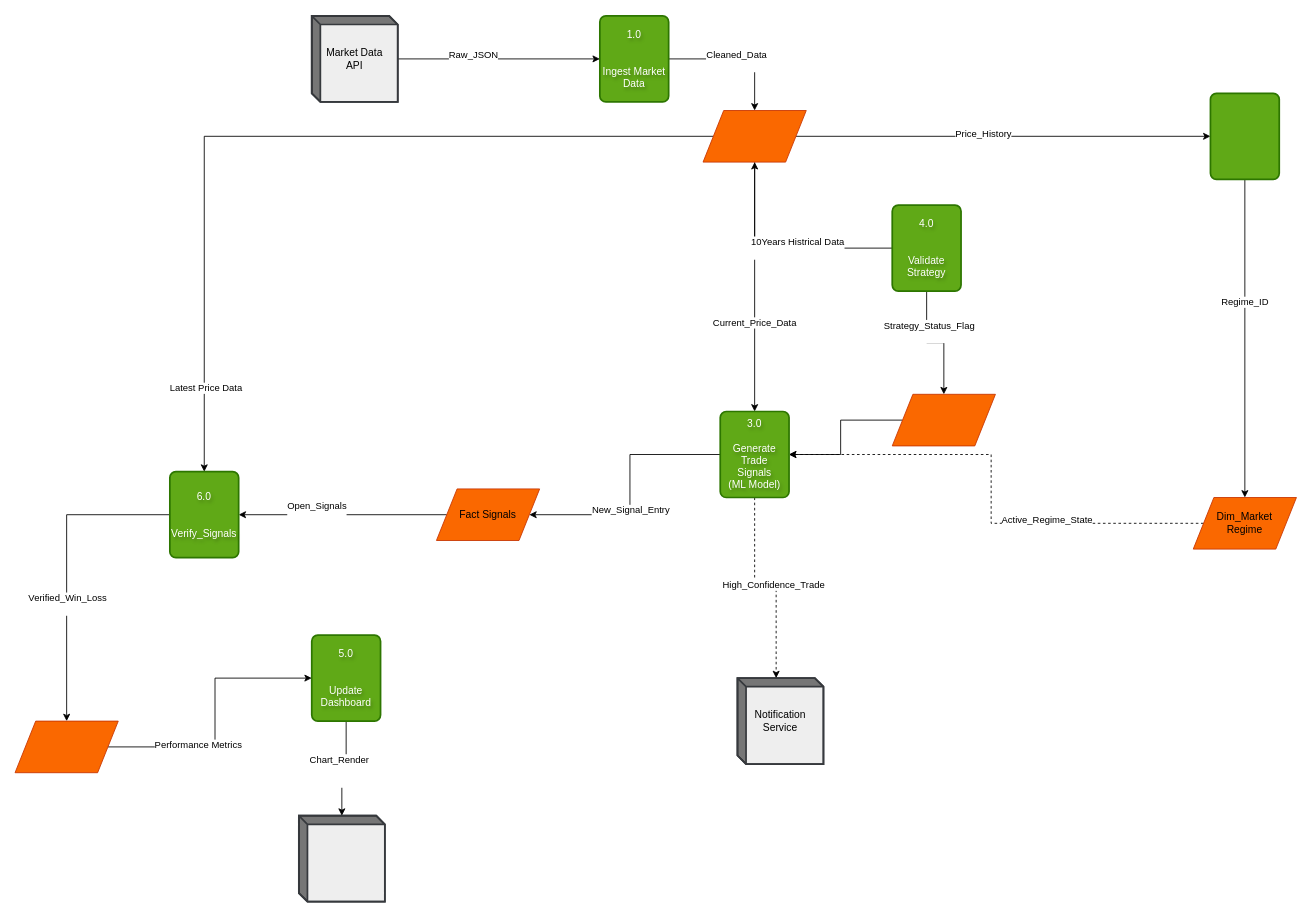
The diagram is 1312 pixels wide and 917 high, and some of its shapes have lost their labels. Each missing label, with the centre of its shape:
"2.0 Detect Market Regime" belongs at (1244,136).
"Dim Strategy Registry" belongs at (943,419).
"End User" belongs at (341,858).
"Fact Market Prices" belongs at (754,136).
"Fact Trade Results" belongs at (66,746).
